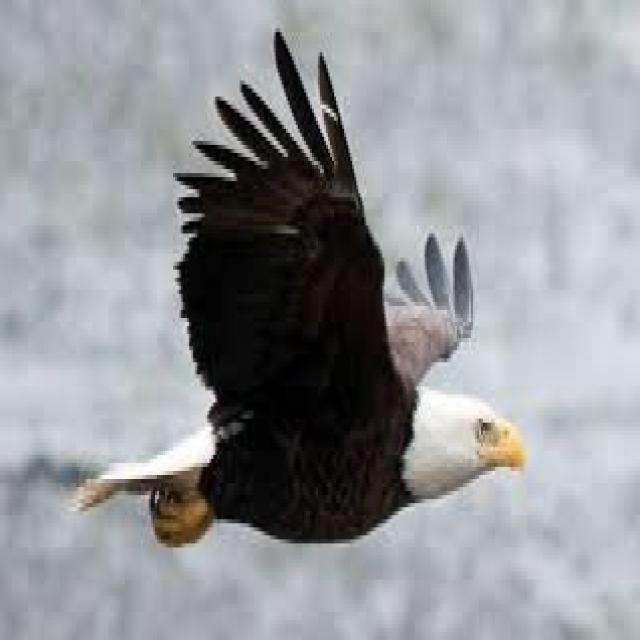eagle: (76, 28, 523, 539)
